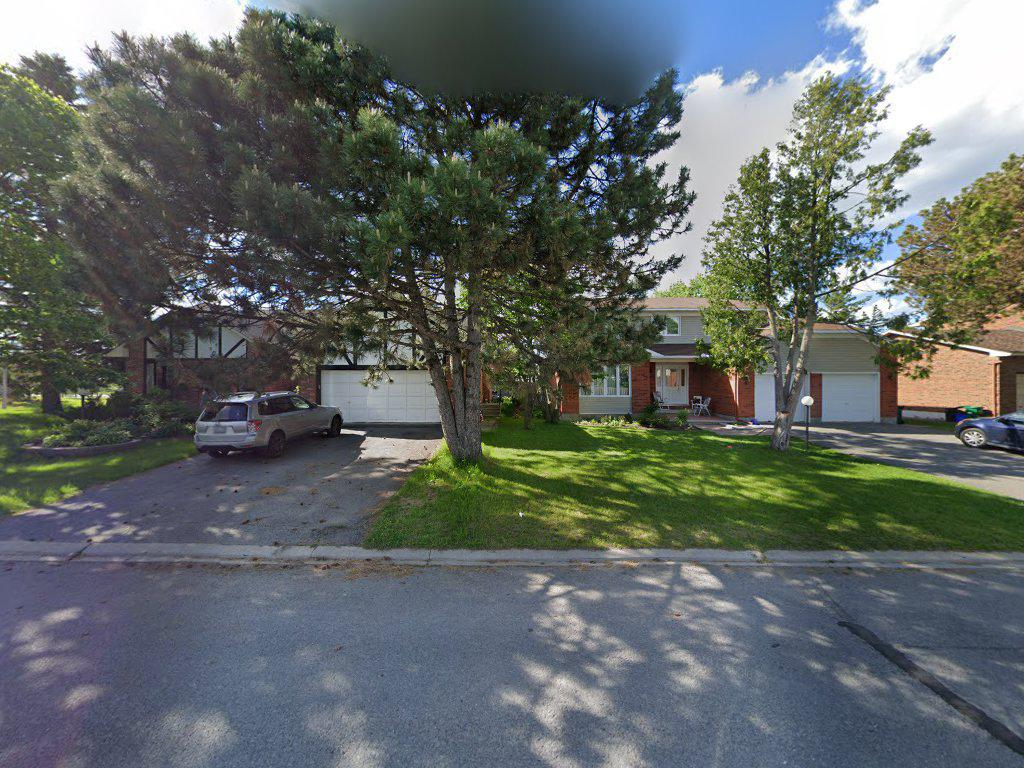trunk: (429, 302, 491, 486), (769, 324, 808, 458)
